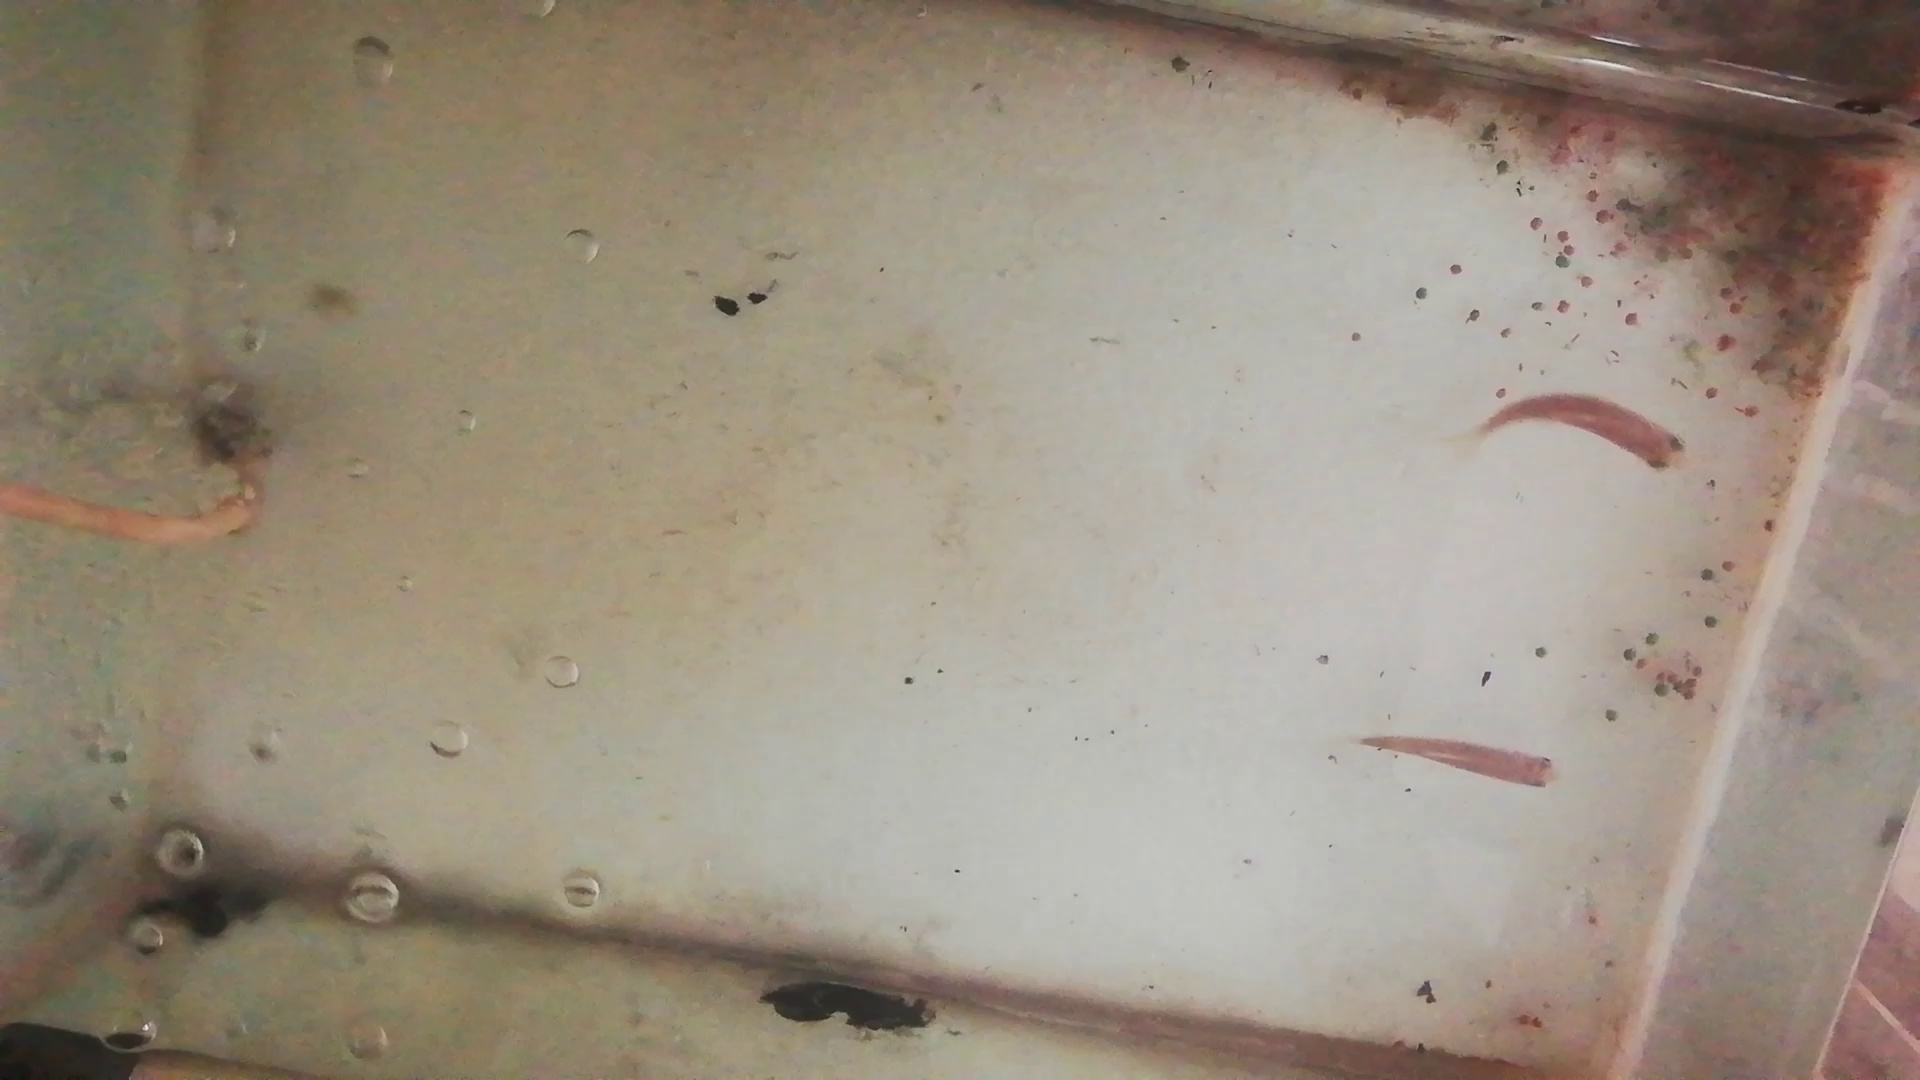fish: (1484, 389, 1692, 476), (1358, 728, 1563, 794)
